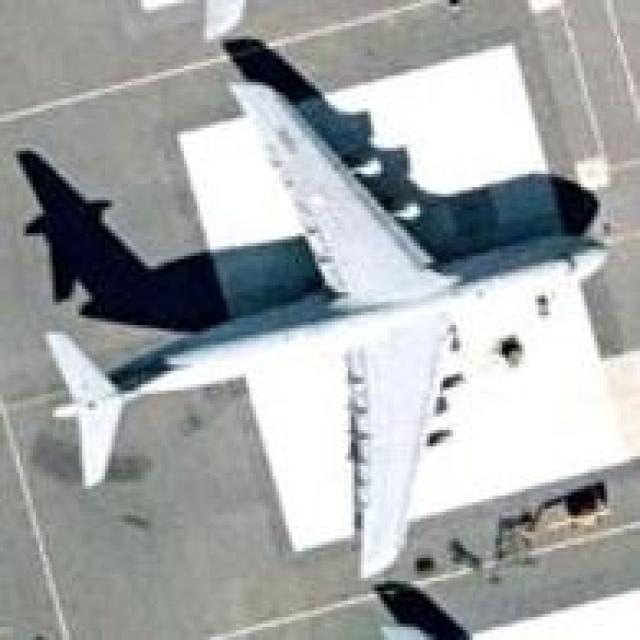C-5_TopDown: (15, 25, 612, 583)
